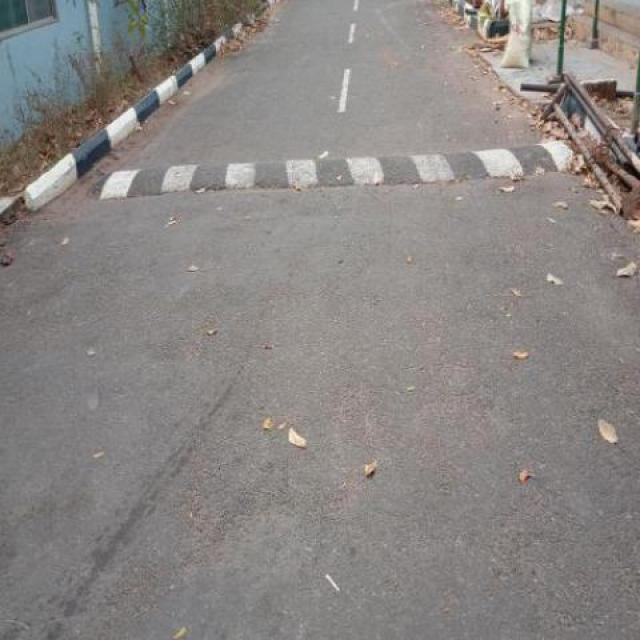Speed Bump: (98, 130, 589, 200)
